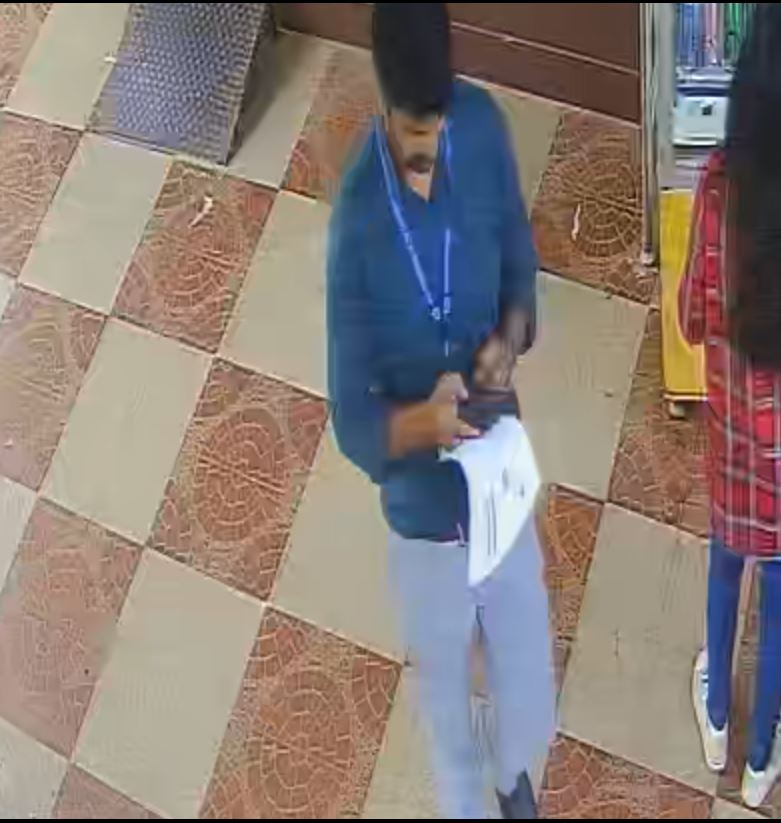not intruder: (308, 1, 581, 821)
